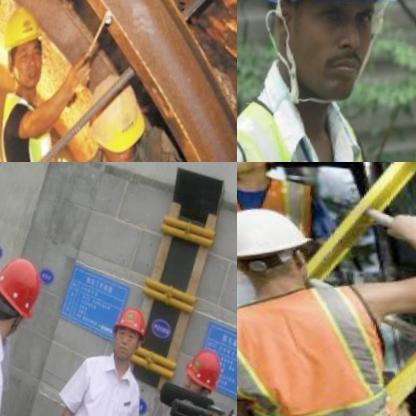helmet: (238, 0, 416, 123), (237, 189, 332, 298), (80, 70, 151, 162), (0, 0, 53, 93), (0, 250, 47, 342), (110, 298, 151, 366), (183, 343, 227, 403), (237, 162, 282, 182)
